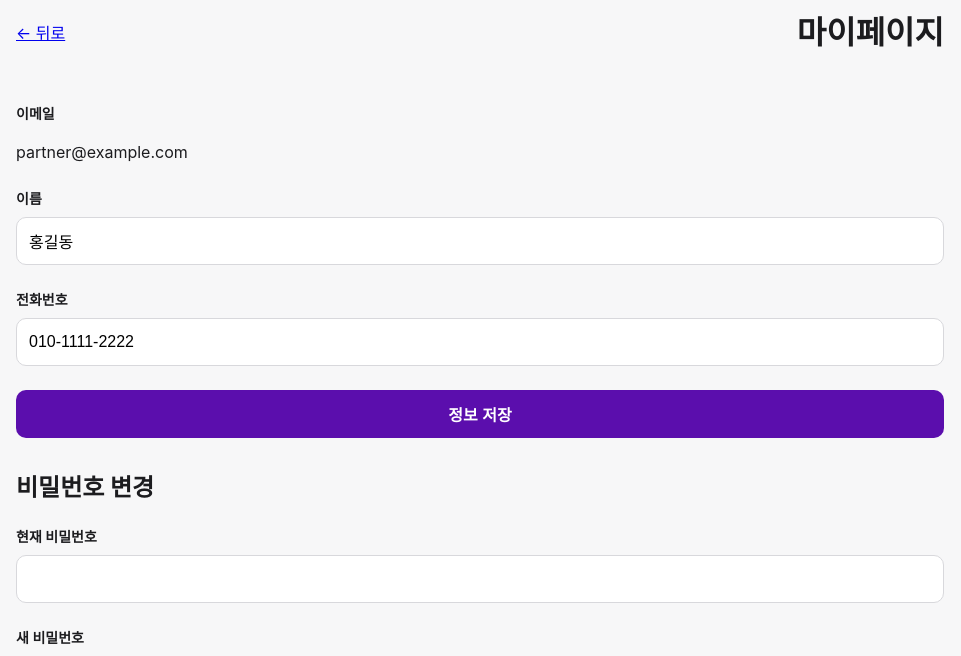
shows the backend error message when saving the profile fails
Check: the field labelled "이름" holds "홍길동", box [16,217,944,265]
Click the button "정보 저장" at [480, 414], box [16,390,944,438]
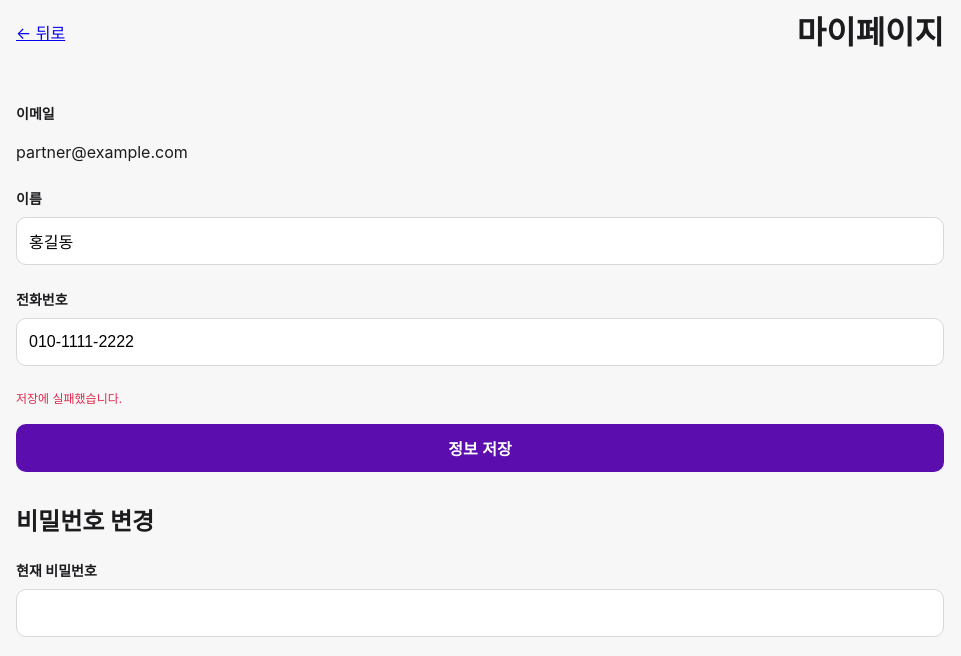
Check: the text "저장에 실패했습니다." is shown, box [16,391,122,406]
